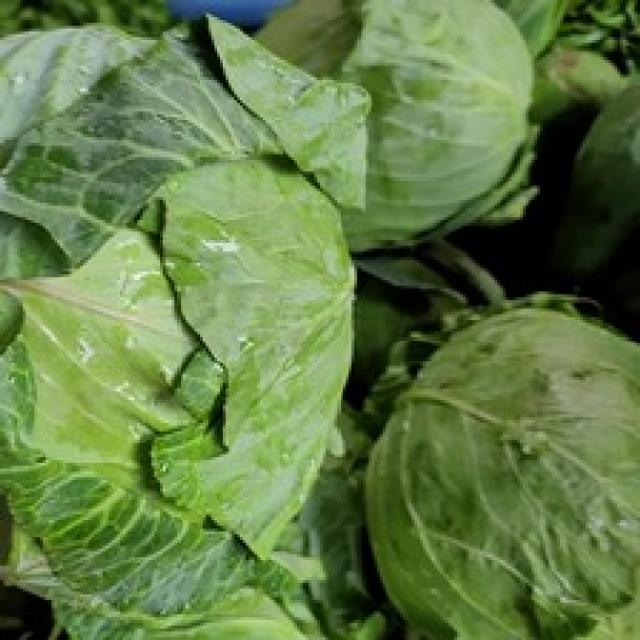Cabbage: (5, 17, 354, 624), (376, 315, 637, 640)
